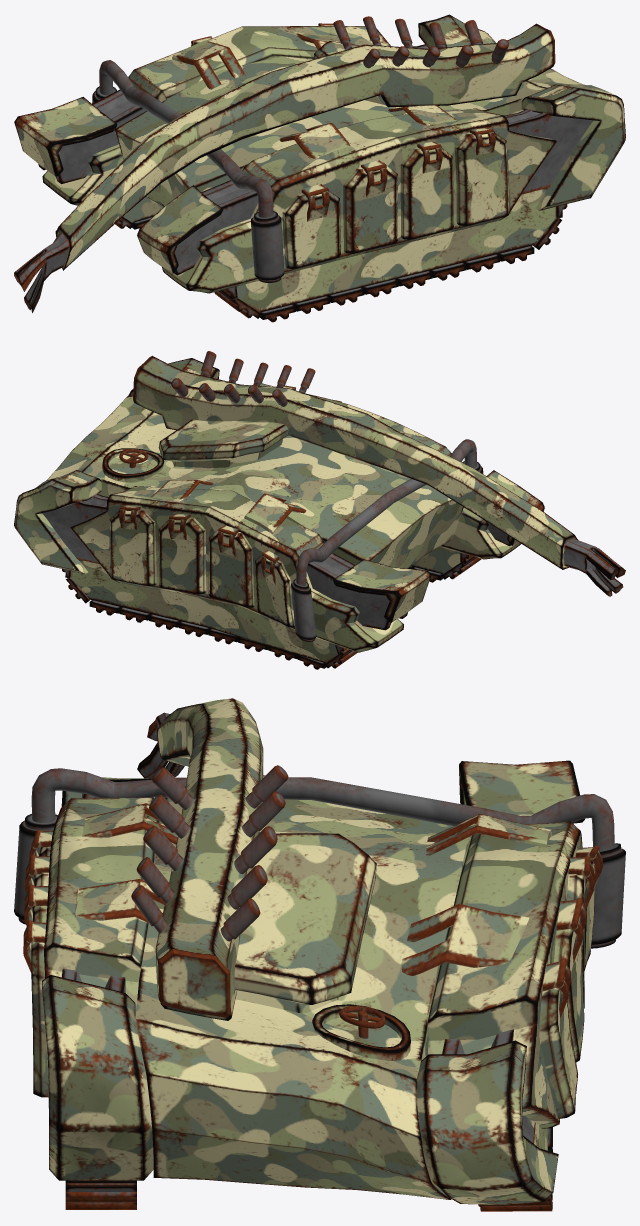
The model's file is SM_Tank_Body_01.fbx.
The picture shows the model from 3 angles, top to bottom: view 1: azimuth 30°, elevation 25°; view 2: azimuth 150°, elevation 25°; view 3: azimuth 270°, elevation 25°; orthographic projection. The views are drawn at different scales.
Parts seen in each view (by area): view 1: SM_Tank_Body_01; view 2: SM_Tank_Body_01; view 3: SM_Tank_Body_01.
Part boxes in pixels (<box>): SM_Tank_Body_01: <box>14,14,625,322</box>; SM_Tank_Body_01: <box>14,351,625,669</box>; SM_Tank_Body_01: <box>14,698,625,1211</box>.
Size of the model in its own units: 1092 by 403 by 626.
